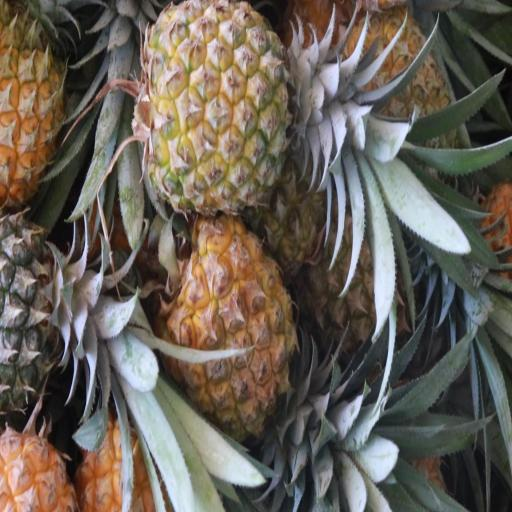------------------------------: (338, 14, 451, 183)
Pineapple - v8 v1: (140, 0, 286, 211), (156, 210, 290, 438), (0, 0, 70, 207)
